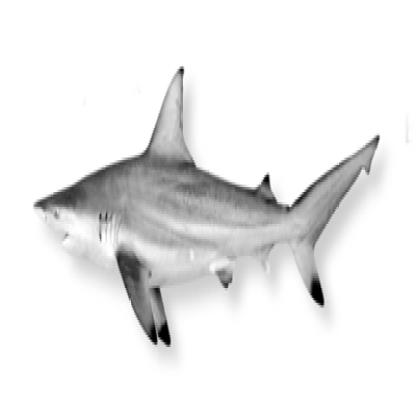shark: (28, 58, 380, 356)
